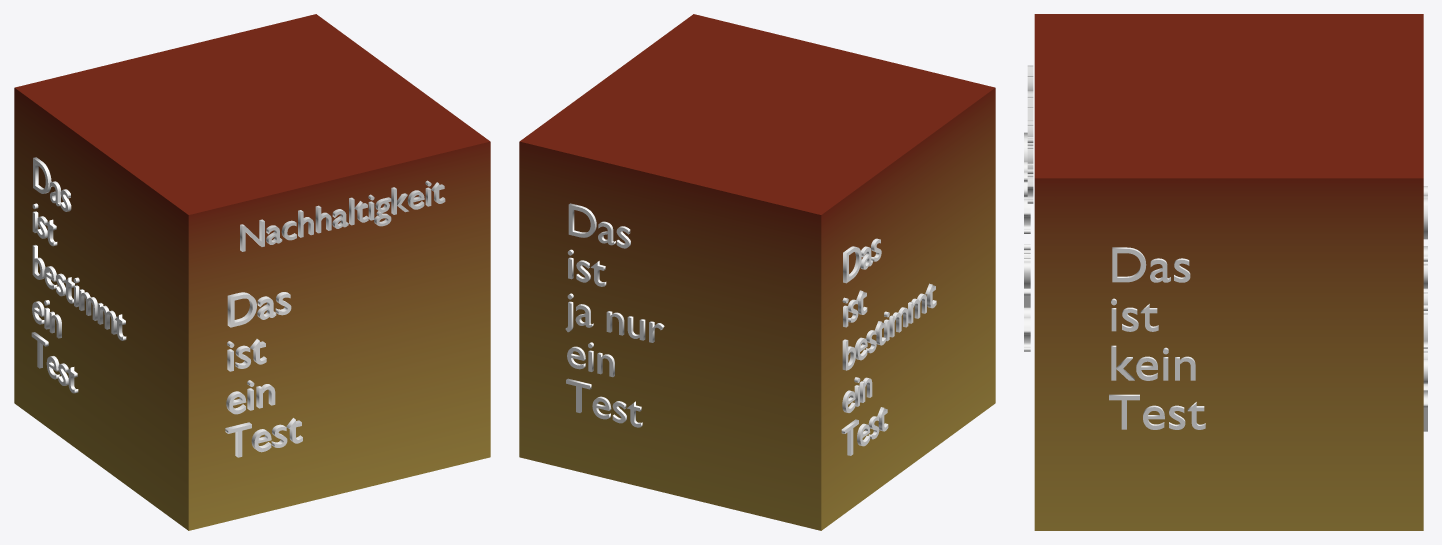
File: Nachhaltigkeitsbox.glb
3 renders of one model, left to right at view 1: azimuth 30°, elevation 25°; view 2: azimuth 150°, elevation 25°; view 3: azimuth 270°, elevation 25°, orthographic. The views are drawn at different scales.
Parts seen in each view (by area): view 1: Cube.001, T2 Linke Seite.001, T1 Frontseite, Text.001; view 2: Cube.001, T2 Linke Seite.001, T2 Linke Seite.002; view 3: Cube.001, T2 Rechte Seite, T1 Frontseite, T2 Linke Seite.002, Text.001.
Boxes of the visible parts, bbox=[...] form: Cube.001: bbox=[14, 14, 490, 530]; T2 Linke Seite.001: bbox=[31, 157, 126, 393]; T1 Frontseite: bbox=[225, 292, 302, 457]; Text.001: bbox=[240, 180, 445, 251]; Cube.001: bbox=[519, 14, 995, 530]; T2 Linke Seite.001: bbox=[841, 238, 936, 455]; T2 Linke Seite.002: bbox=[565, 203, 664, 427]; Cube.001: bbox=[1034, 14, 1423, 530]; T2 Rechte Seite: bbox=[1109, 247, 1205, 429]; T1 Frontseite: bbox=[1024, 132, 1030, 351]; T2 Linke Seite.002: bbox=[1423, 186, 1427, 431]; Text.001: bbox=[1027, 65, 1033, 203].
Bounding box in the file's own units: 2.04 × 2 × 2.08.
5 materials, 1 textured.
